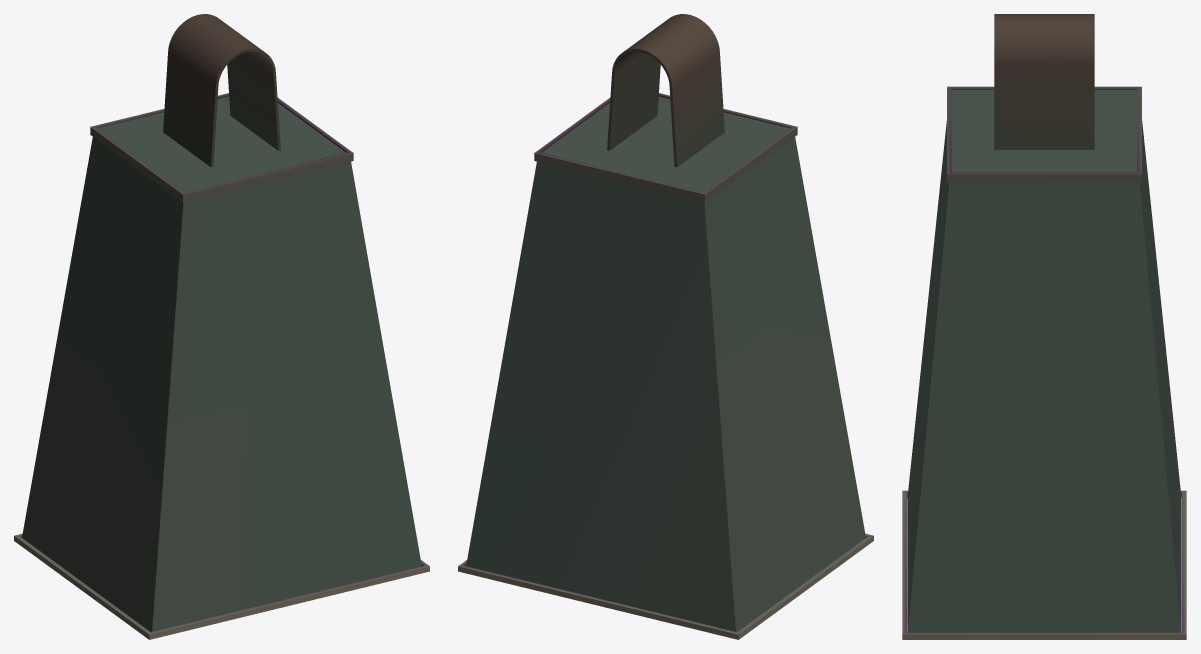
The picture shows the model from 3 angles, left to right: view 1: azimuth 30°, elevation 25°; view 2: azimuth 150°, elevation 25°; view 3: azimuth 270°, elevation 25°; orthographic projection. The views are drawn at different scales.
Visible parts, largest first — view 1: bell, strap, top_lip, bottom_lip; view 2: bell, strap, top_lip, bottom_lip; view 3: bell, strap, bottom_lip, top_lip.
Boxes of the visible parts, <box> form: bell: <box>22,96,421,631</box>; strap: <box>163,14,280,167</box>; top_lip: <box>90,93,353,202</box>; bottom_lip: <box>14,533,429,639</box>; bell: <box>466,96,865,631</box>; strap: <box>607,14,724,167</box>; top_lip: <box>534,93,797,202</box>; bottom_lip: <box>458,533,873,639</box>; bell: <box>907,90,1181,632</box>; strap: <box>994,14,1094,149</box>; bottom_lip: <box>902,490,1186,639</box>; top_lip: <box>947,86,1141,182</box>.
Bounding box in the file's own units: 0.1118 × 0.1995 × 0.0934.
